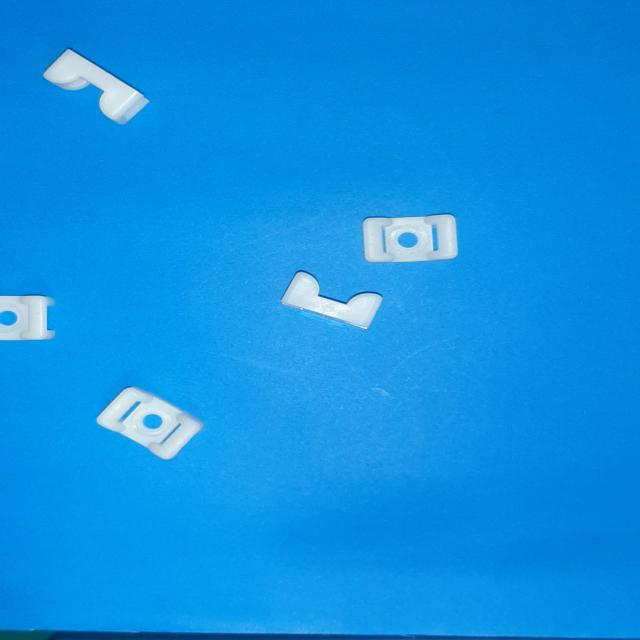false_2: (43, 49, 148, 124), (282, 271, 382, 329)
true: (97, 388, 203, 459), (363, 215, 458, 262), (0, 295, 55, 340)
true_center: (398, 232, 417, 248), (143, 415, 163, 429), (0, 311, 17, 325)
